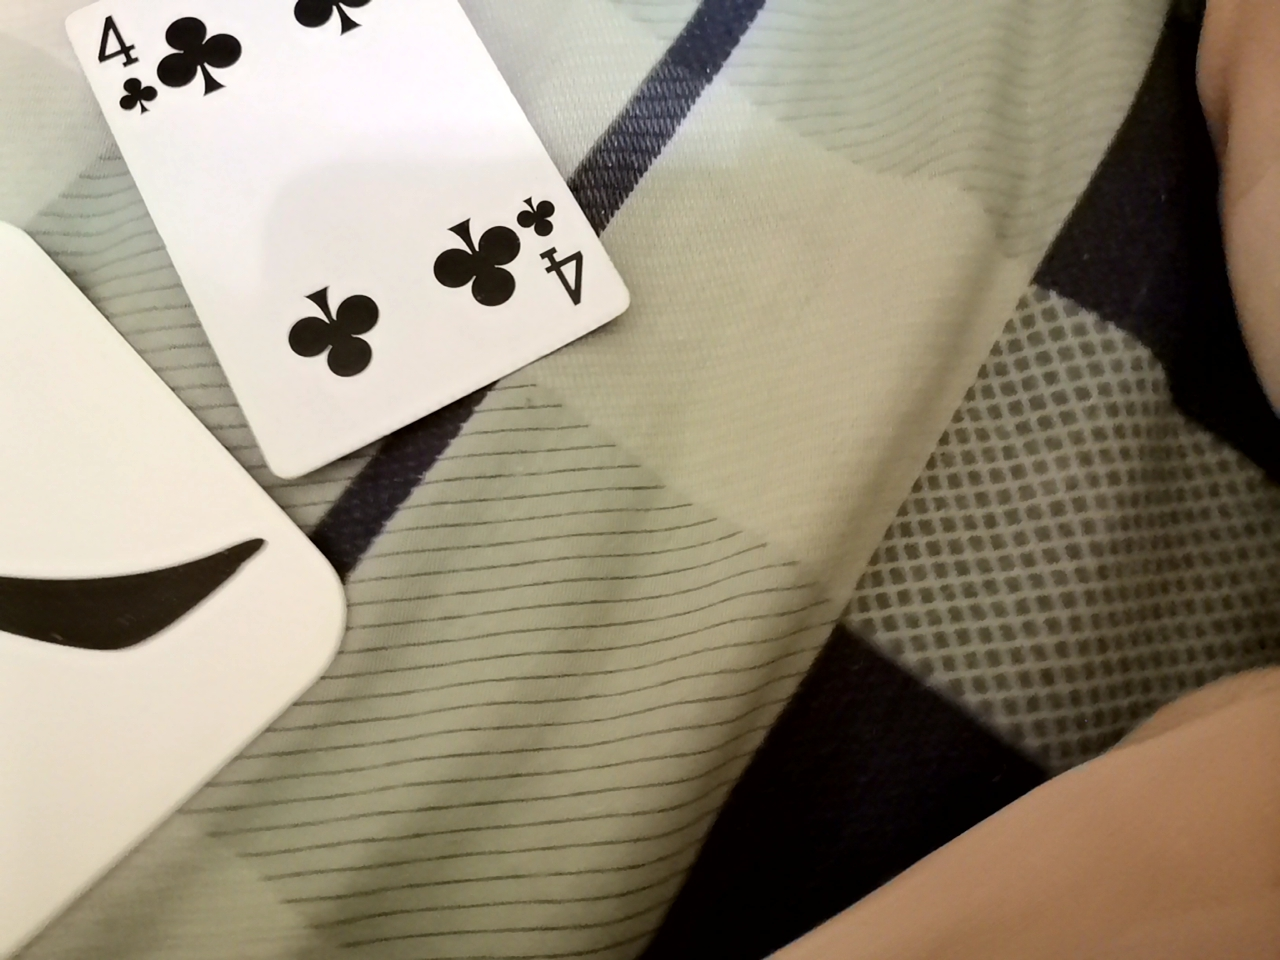mh 4: (54, 11, 624, 543)
